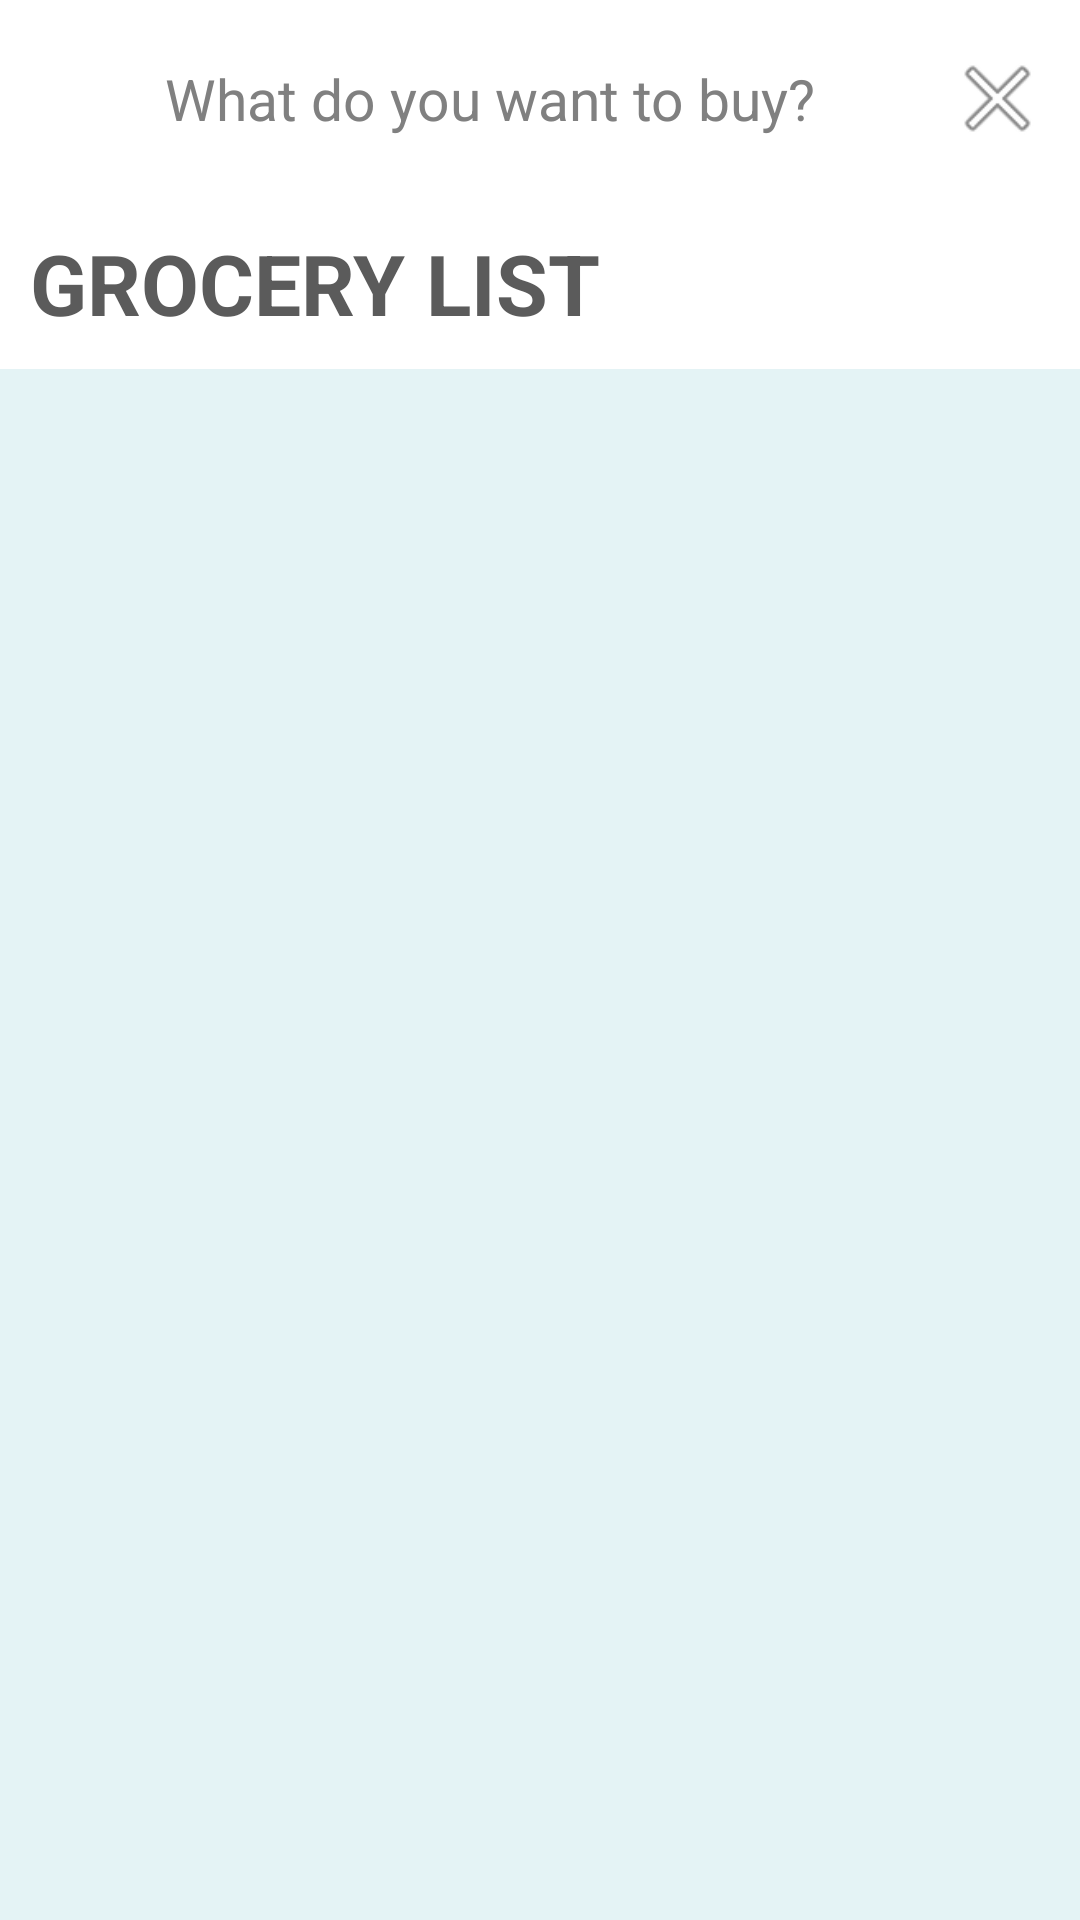

Icon click points for this 1080*1920 phone screenshot, format (x,y):
close clear cancel: (997,98)
